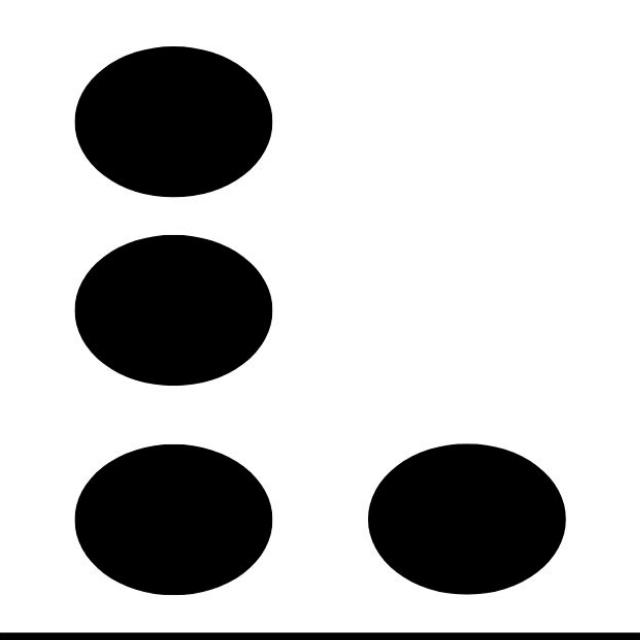letter_v: (73, 45, 569, 597)
